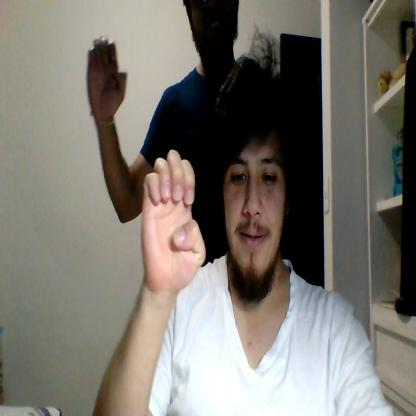E: (141, 150, 206, 290), (87, 37, 127, 116)
